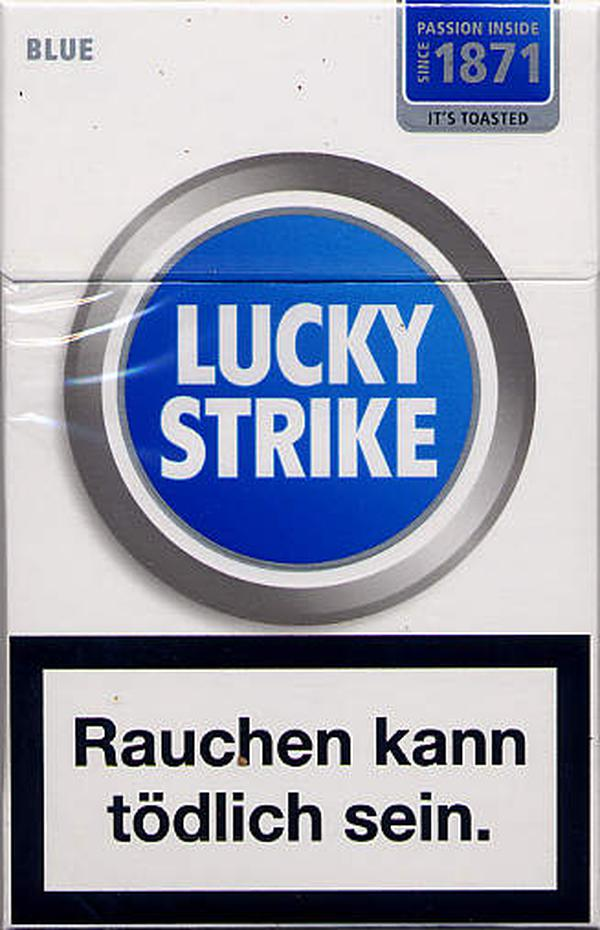lucky_strike_blue: (4, 4, 599, 930)
